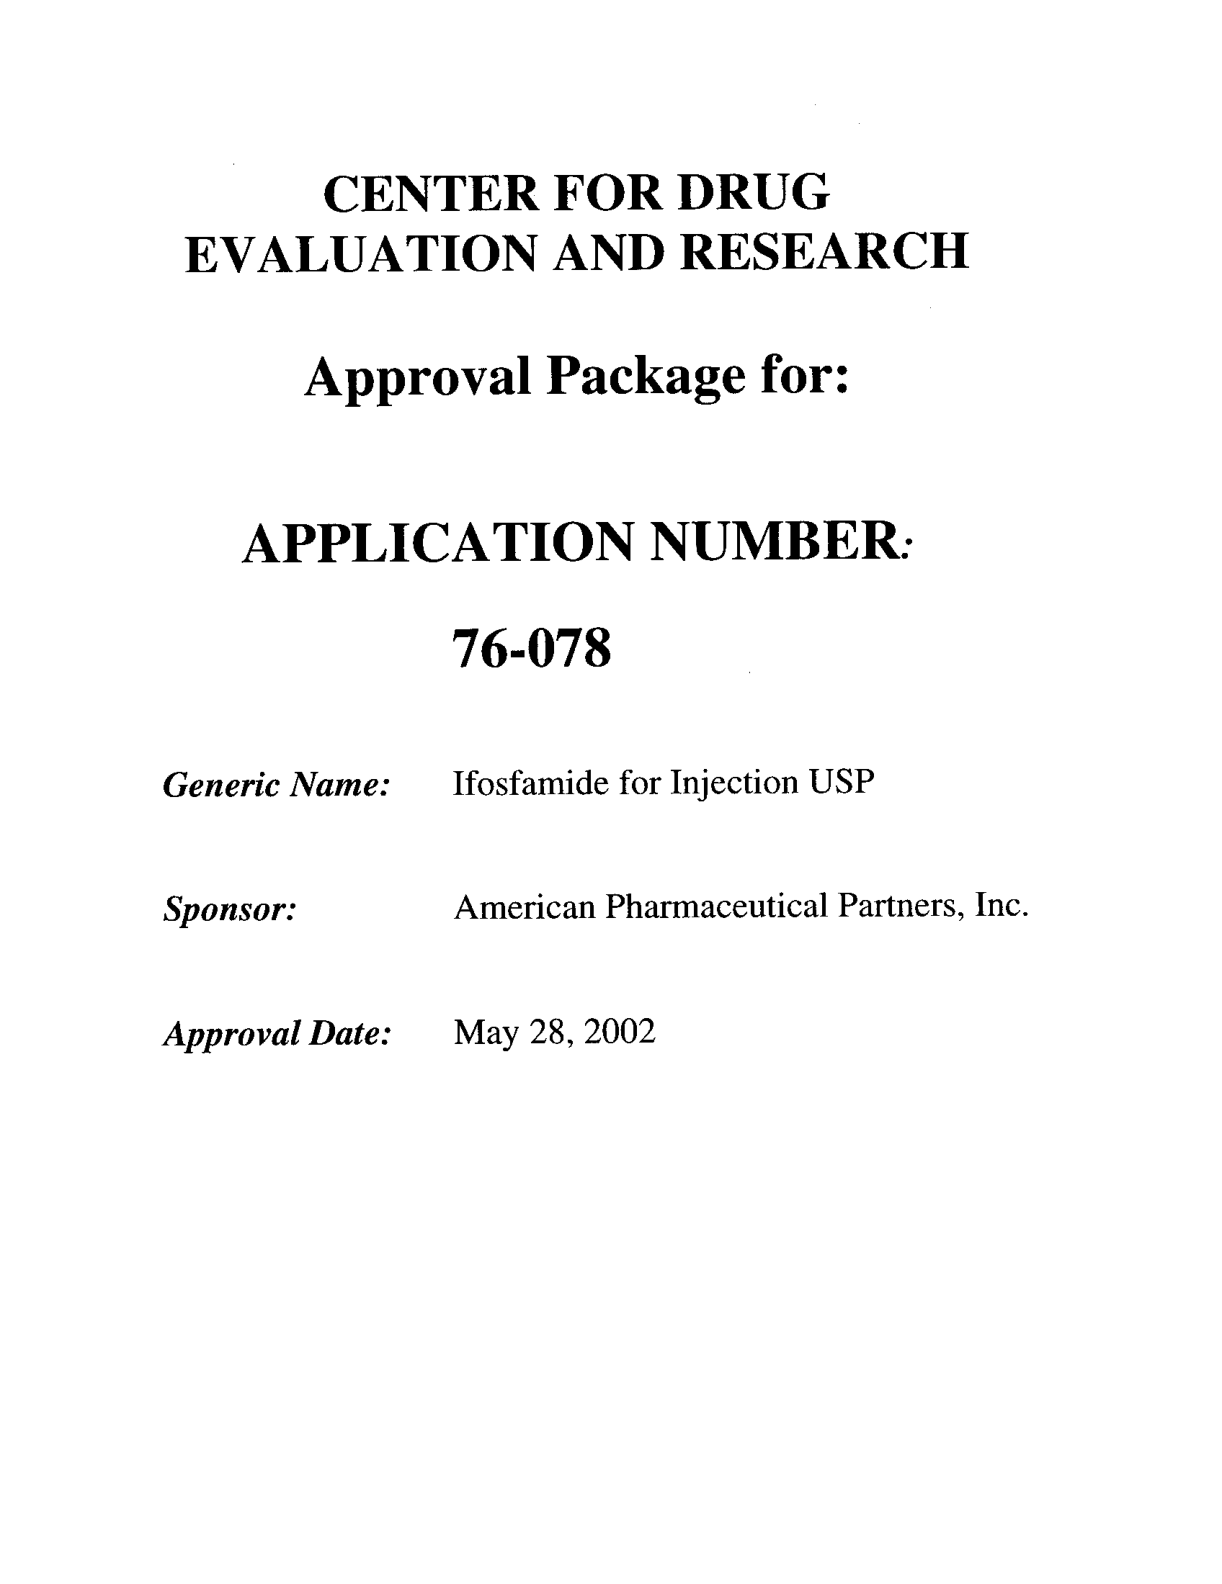nolines: (160, 762, 1032, 1056)
